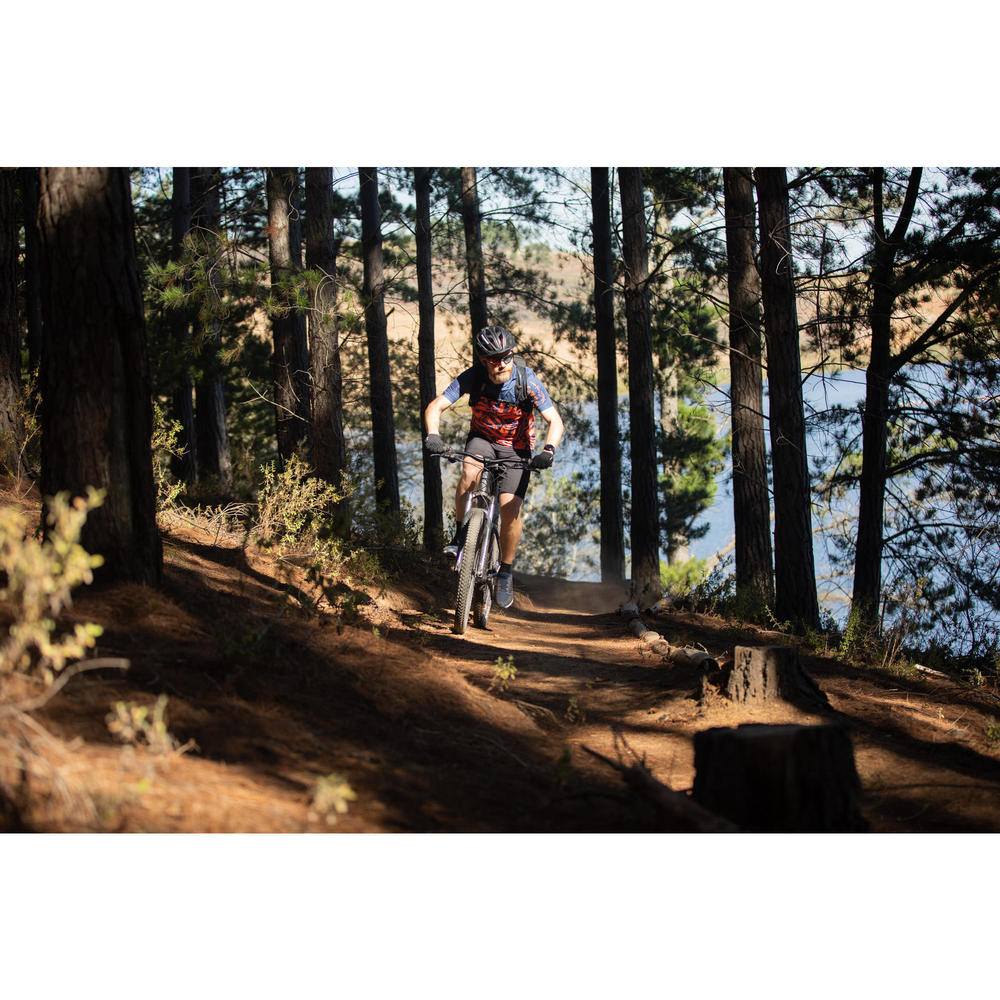MountainBike: (415, 424, 567, 632)
